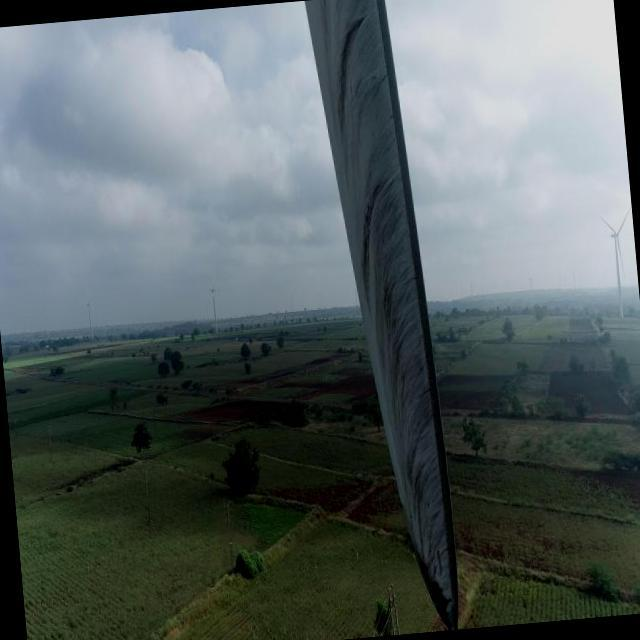Dirt: (307, 0, 460, 630)
Oil LEAKAGE: (413, 546, 463, 626)
Pin Hole: (441, 593, 454, 610)
